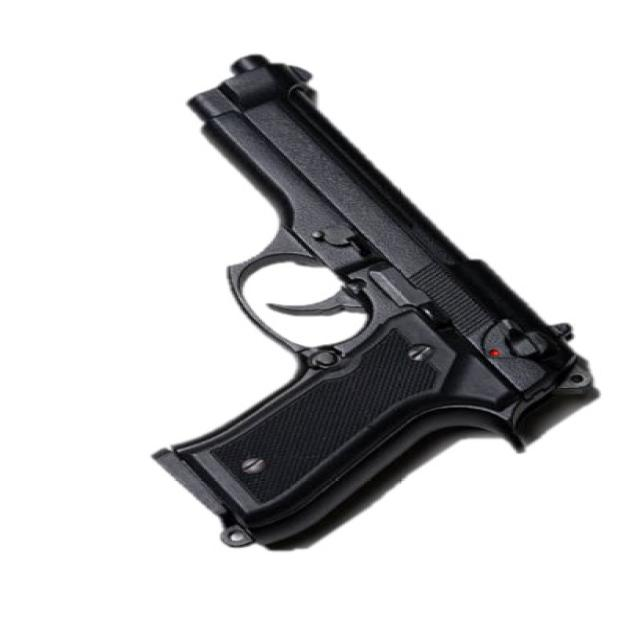pistol: (125, 53, 609, 556)
